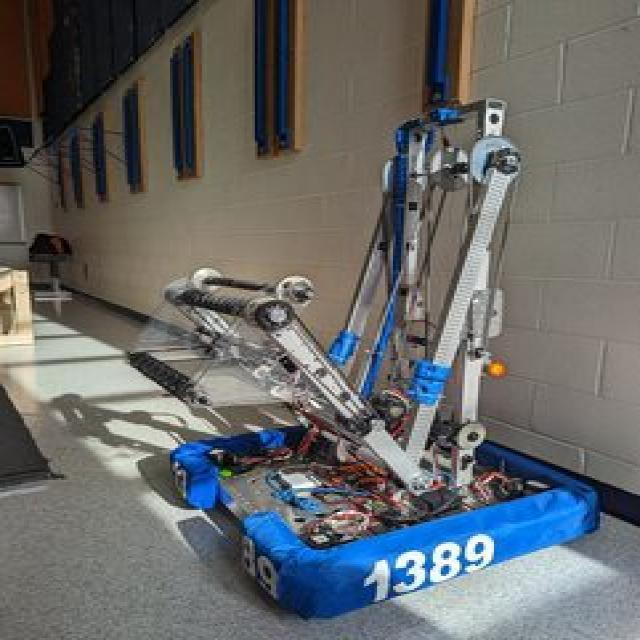robot: (113, 94, 609, 618)
